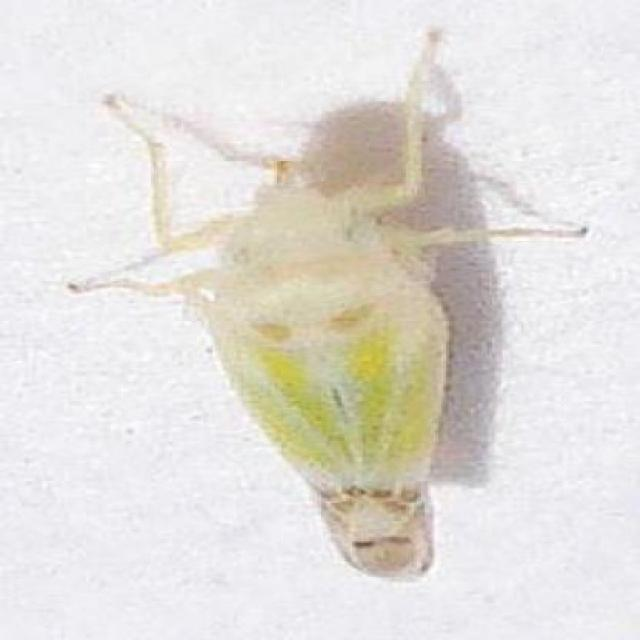green-leafhopper: (98, 77, 564, 578)
